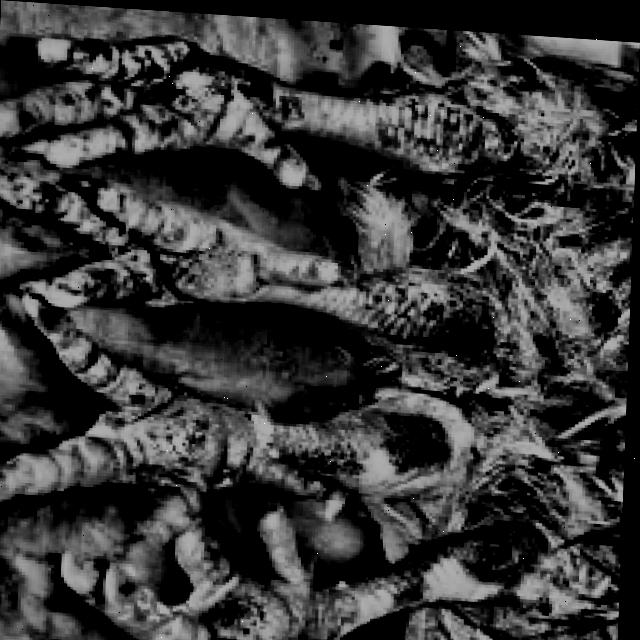Infectios bronchitis: (0, 9, 498, 370), (10, 325, 547, 640)
